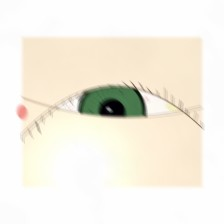pinguecula_lesion: (156, 90, 196, 122)
